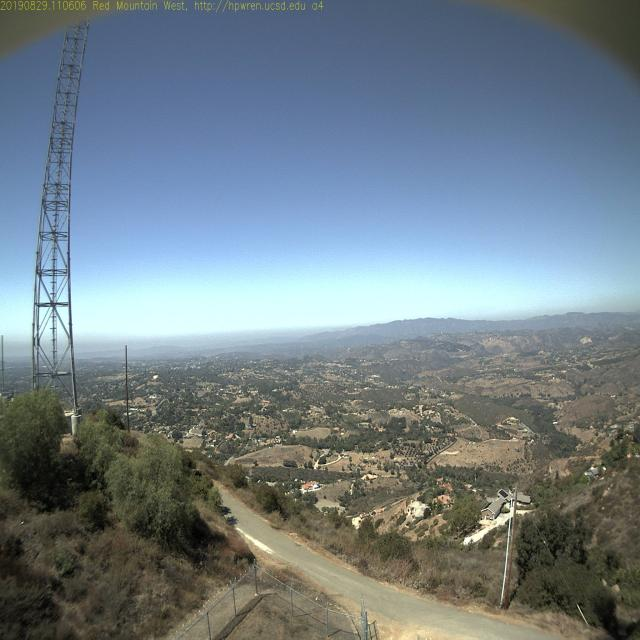smoke: (332, 327, 348, 342)
